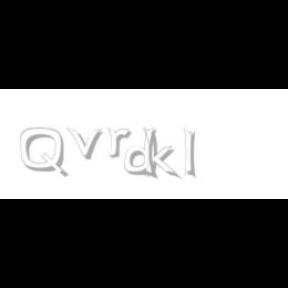Q: (20, 128, 66, 178)
d: (124, 128, 162, 180)
k: (143, 128, 181, 180)
l: (184, 128, 200, 180)
r: (108, 128, 134, 158)
v: (66, 128, 106, 160)
